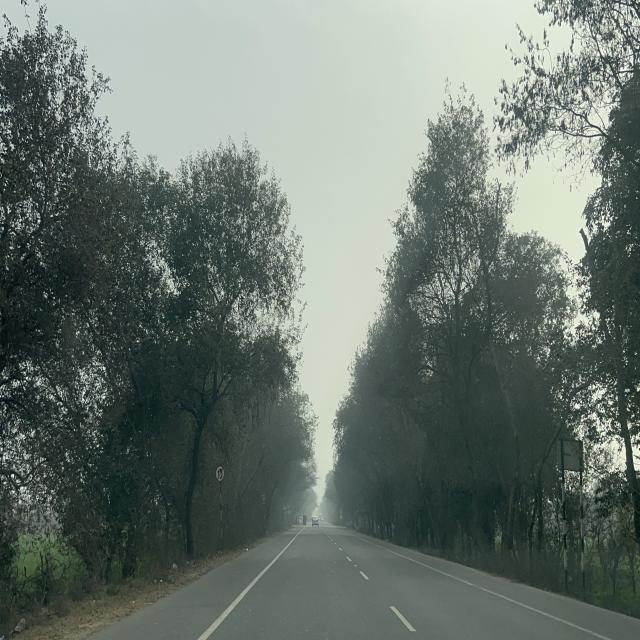OVERTAKING_PROHIBITED: (214, 464, 226, 483)
